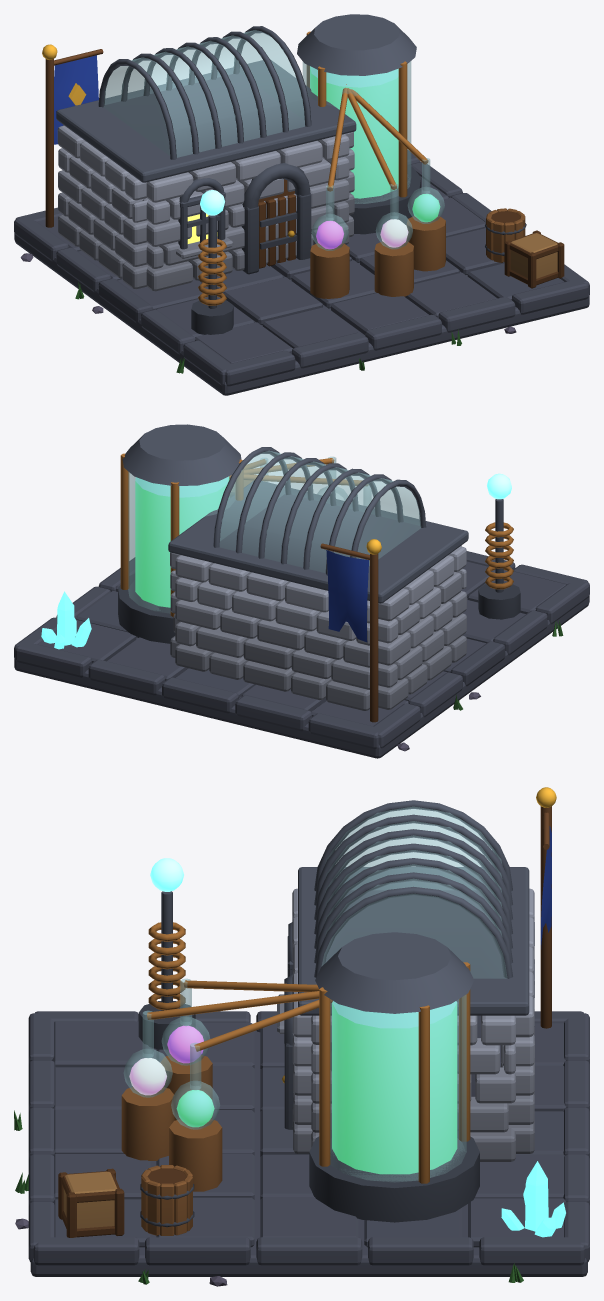
File: laboratory.glb
3 views of the same model, one above another, from view 1: azimuth 30°, elevation 25°; view 2: azimuth 150°, elevation 25°; view 3: azimuth 270°, elevation 25° (orthographic). The views are drawn at different scales.
Parts seen in each view (by area): view 1: t0_stone_dark, t0_iron, t0_glass, t0_stone, t0_brew_green, t0_wood, t0_bronze, t2_cloth_blue, t0_wood_dark, t2_wood_dark, t1_wood_dark, t1_wood_light (+4 smaller); view 2: t0_stone_dark, t0_iron, t0_stone, t0_glass, t0_brew_green, t0_bronze, t2_cloth_blue, t2_wood_dark, t3_crystal_teal, spark_t0_bob3_rune; view 3: t0_stone_dark, t0_iron, t0_glass, t0_brew_green, t0_stone, t0_bronze, t0_wood, t1_wood, t1_wood_dark, t3_crystal_teal, t1_wood_light, t2_wood_dark (+4 smaller).
Part boxes in pixels (x1,y1,x2,y2): t0_stone_dark: (14,150,589,395); t0_iron: (56,14,421,334); t0_glass: (103,30,444,250); t0_stone: (57,125,354,291); t0_brew_green: (310,66,440,222); t0_wood: (310,216,445,298); t0_bronze: (198,31,428,305); t2_cloth_blue: (54,55,98,144); t0_wood_dark: (258,179,295,268); t2_wood_dark: (45,49,103,227); t1_wood_dark: (491,211,564,288); t1_wood_light: (510,233,557,278); t0_stone_dark: (14,551,589,758); t0_iron: (118,424,520,643); t0_stone: (170,545,466,710); t0_glass: (128,451,420,613); t0_brew_green: (135,476,229,607); t0_bronze: (120,453,513,617); t2_cloth_blue: (326,550,368,642); t2_wood_dark: (320,543,378,722); t3_crystal_teal: (41,591,91,649); spark_t0_bob3_rune: (487,473,511,499); t0_stone_dark: (28,1011,589,1276); t0_iron: (138,800,529,1222); t0_glass: (123,807,506,1182); t0_brew_green: (176,1001,457,1174); t0_stone: (277,888,534,1161); t0_bronze: (147,922,470,1183); t0_wood: (121,1055,222,1191); t1_wood: (141,1165,192,1235); t1_wood_dark: (58,1168,186,1237); t3_crystal_teal: (501,1161,565,1237); t1_wood_light: (63,1171,117,1228); t2_wood_dark: (540,806,551,1028).
Size of the model in its own units: 3.11 by 1.65 by 3.04.
